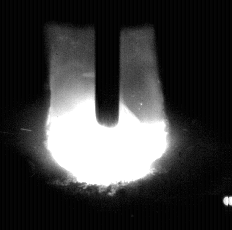arame: (96, 0, 121, 127)
poca: (46, 0, 169, 230)
